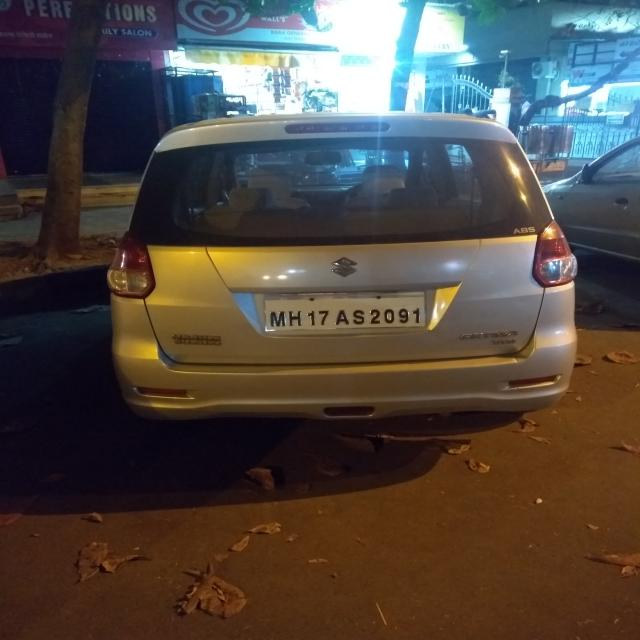Number-Plate: (266, 295, 428, 333)
